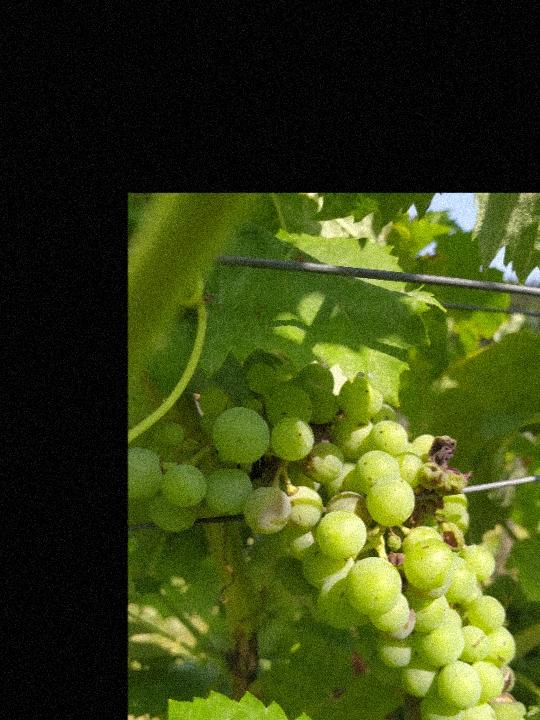grape: (132, 362, 527, 720)
